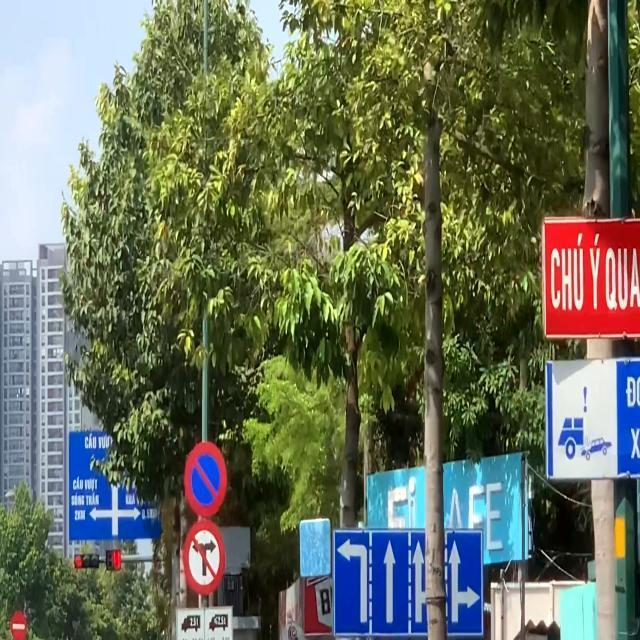102-cam-di-nguoc-chieu: (11, 609, 29, 639)
131a-cam-do-xe: (184, 441, 228, 519)
137-cam-re-trai-va-re-phai: (180, 521, 228, 591)
